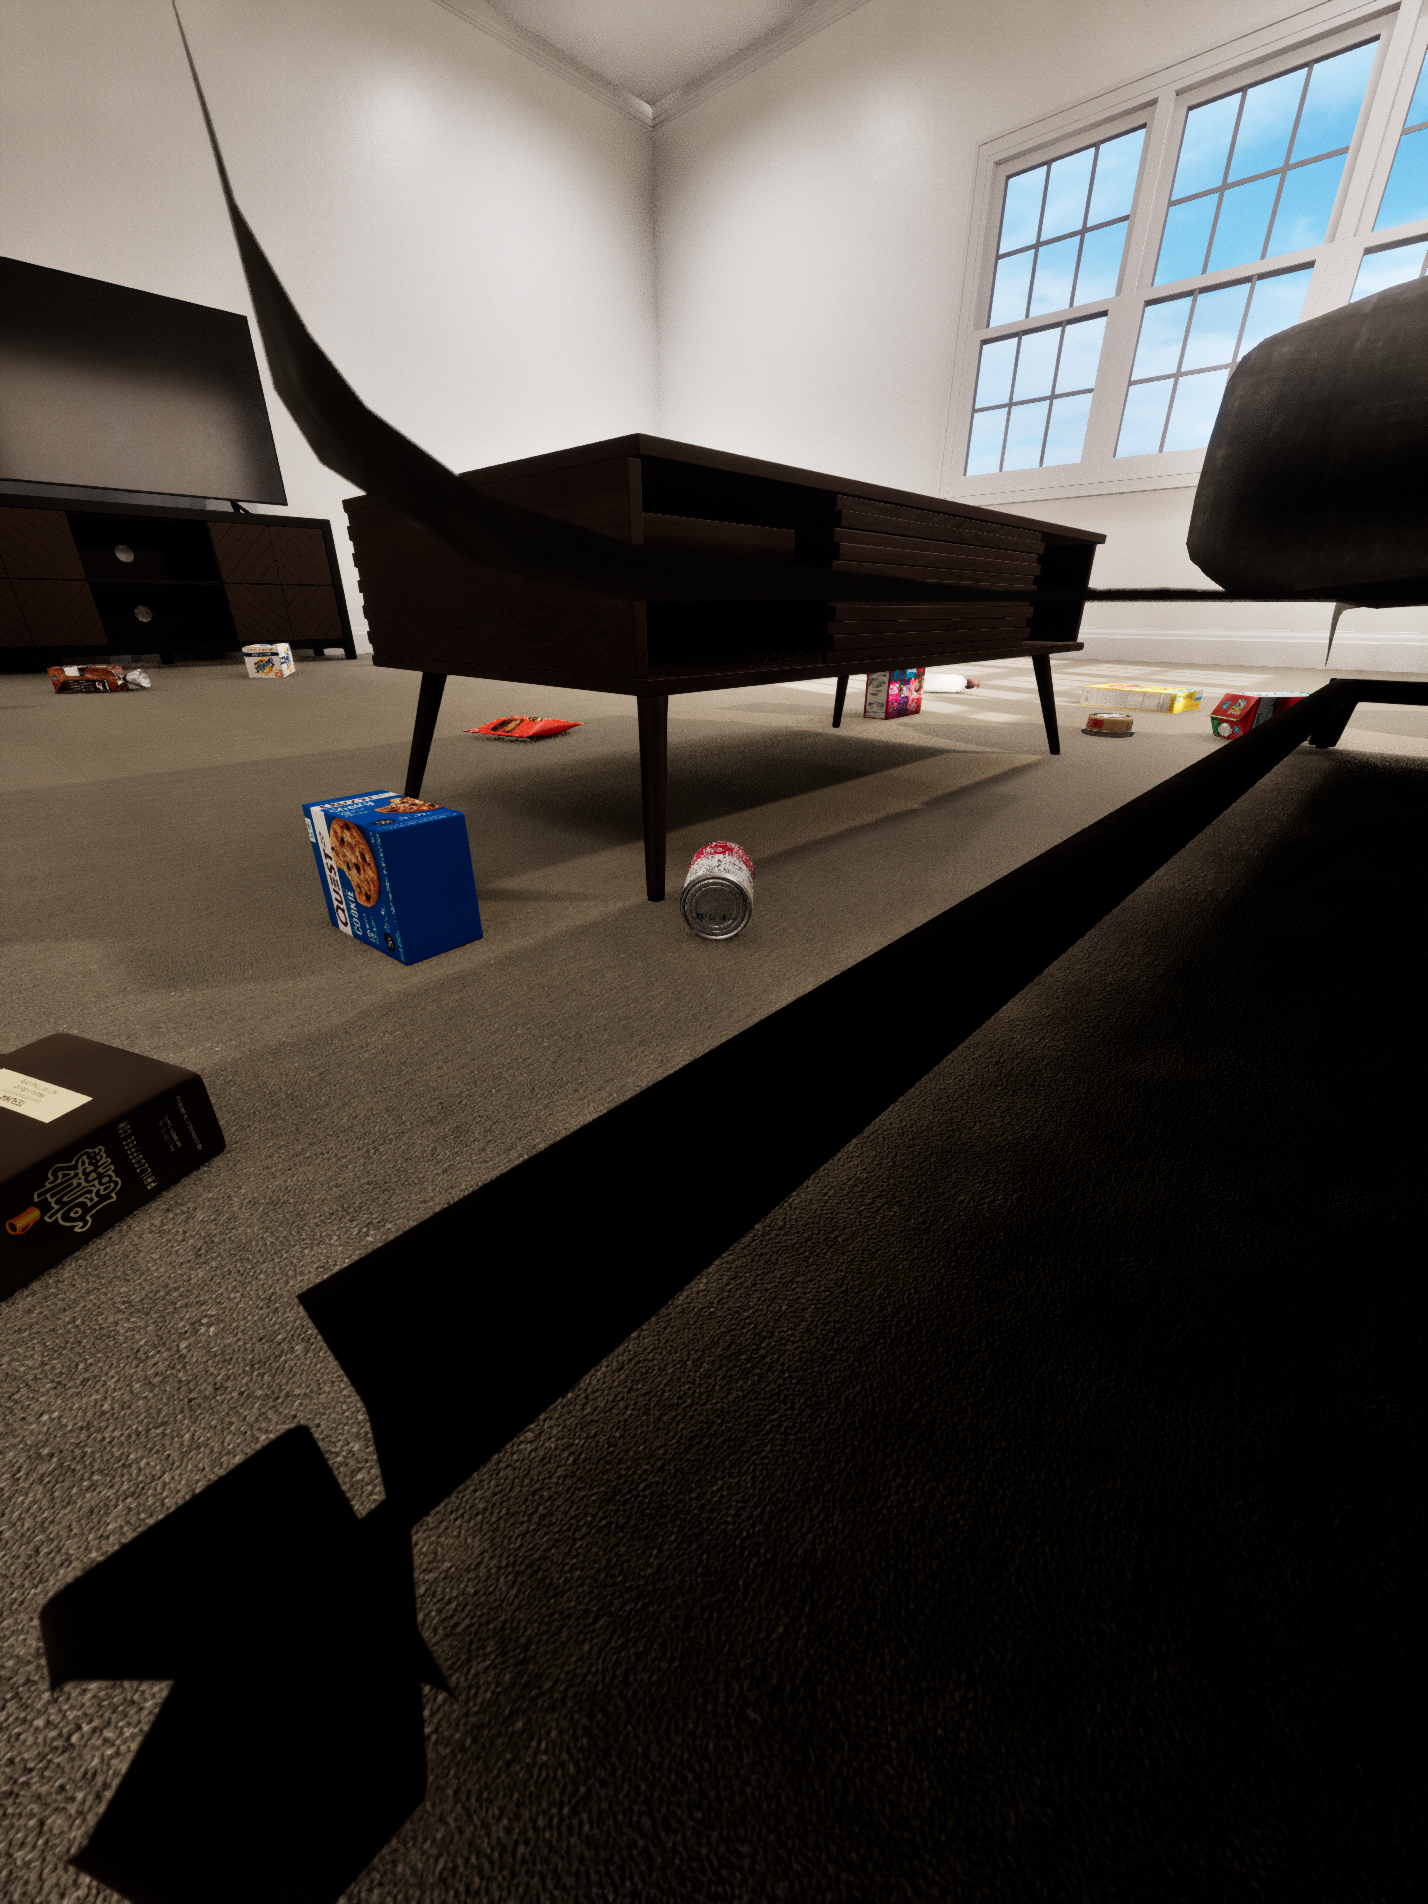cheerios: (1078, 684, 1204, 714)
soup: (679, 840, 754, 940)
